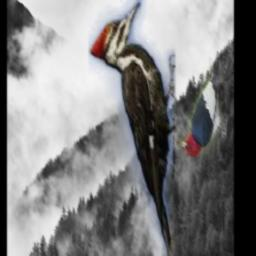Woodpecker: (89, 0, 175, 256), (177, 57, 228, 157)
